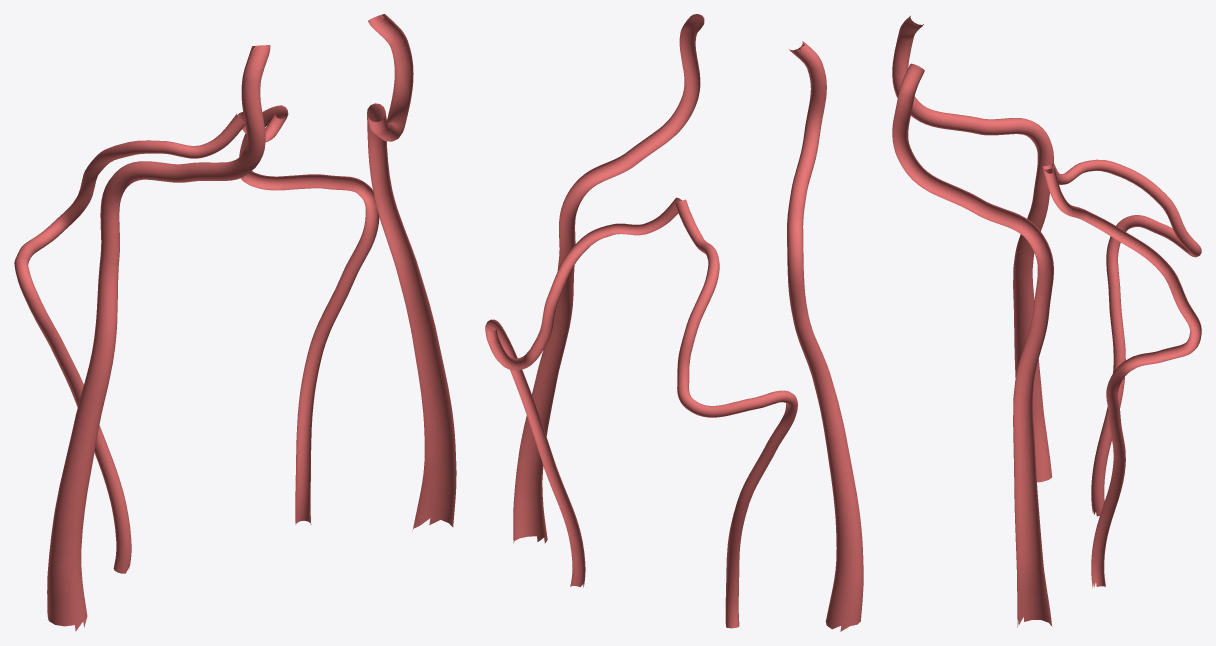
File: zanatomy-neckvessels-skull.glb
The picture shows the model from 3 angles, left to right: view 1: azimuth 30°, elevation 25°; view 2: azimuth 150°, elevation 25°; view 3: azimuth 270°, elevation 25°; orthographic projection. The views are drawn at different scales.
Visible parts, largest first — view 1: zu_ica_r, zu_ica_l, zu_va_r, zu_va_l; view 2: zu_ica_r, zu_ica_l, zu_va_r, zu_va_l; view 3: zu_ica_l, zu_ica_r, zu_va_l, zu_va_r.
Part boxes in pixels (bbox=[...]): zu_ica_r: bbox=[47, 45, 270, 631]; zu_ica_l: bbox=[367, 14, 456, 530]; zu_va_r: bbox=[14, 114, 245, 573]; zu_va_l: bbox=[237, 105, 379, 524]; zu_ica_r: bbox=[787, 41, 863, 631]; zu_ica_l: bbox=[513, 14, 704, 542]; zu_va_r: bbox=[675, 199, 797, 628]; zu_va_l: bbox=[485, 197, 681, 587]; zu_ica_l: bbox=[892, 63, 1053, 627]; zu_ica_r: bbox=[892, 15, 1053, 482]; zu_va_l: bbox=[1042, 163, 1201, 588]; zu_va_r: bbox=[1044, 159, 1201, 516].
Size of the model in its own units: 0.0736 by 0.1048 by 0.0572.
